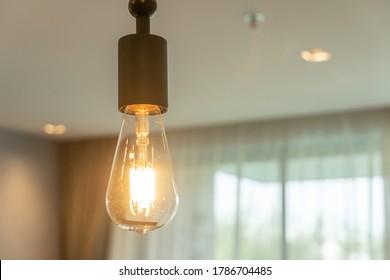bulb: (105, 82, 185, 249)
